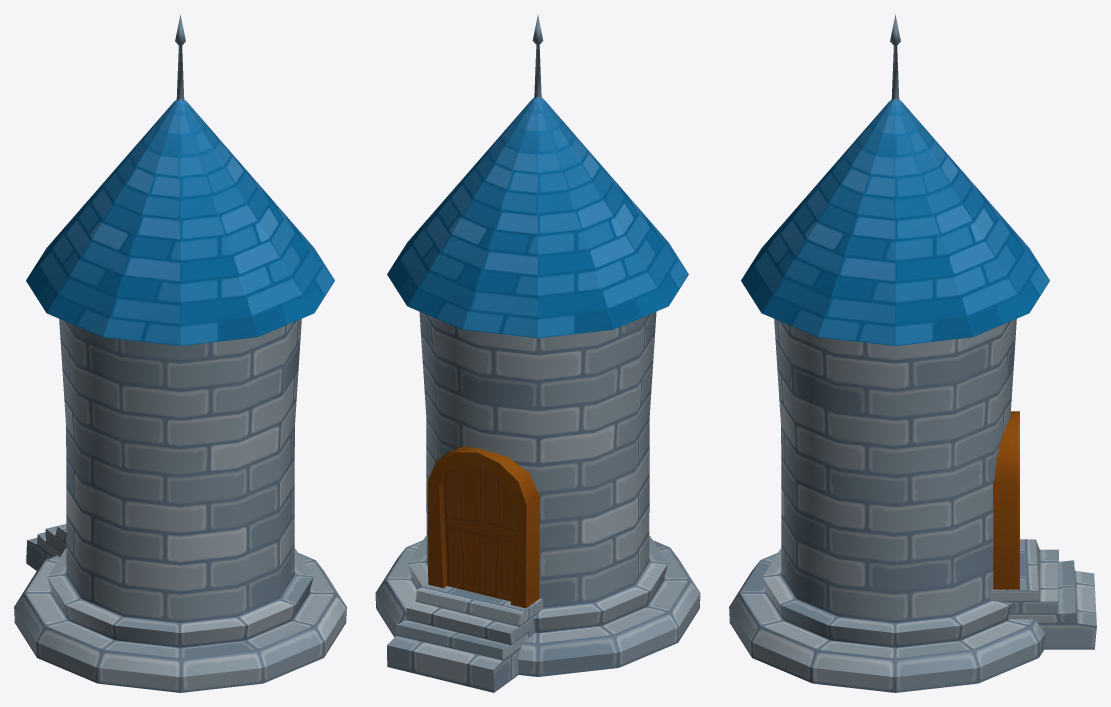
Rendered from HOS0110029.fbx.
3 views of the same model, side by side, from view 1: azimuth 30°, elevation 25°; view 2: azimuth 150°, elevation 25°; view 3: azimuth 270°, elevation 25° (orthographic). The views are drawn at different scales.
Visible parts, largest first — view 1: smHOS0110029; view 2: smHOS0110029; view 3: smHOS0110029.
Part boxes in pixels (bbox=[...]): smHOS0110029: bbox=[14, 14, 346, 692]; smHOS0110029: bbox=[375, 15, 700, 692]; smHOS0110029: bbox=[729, 14, 1096, 692].
Size of the model in its own units: 462 by 933 by 511.
Materials: 1 (1 with a texture image).
